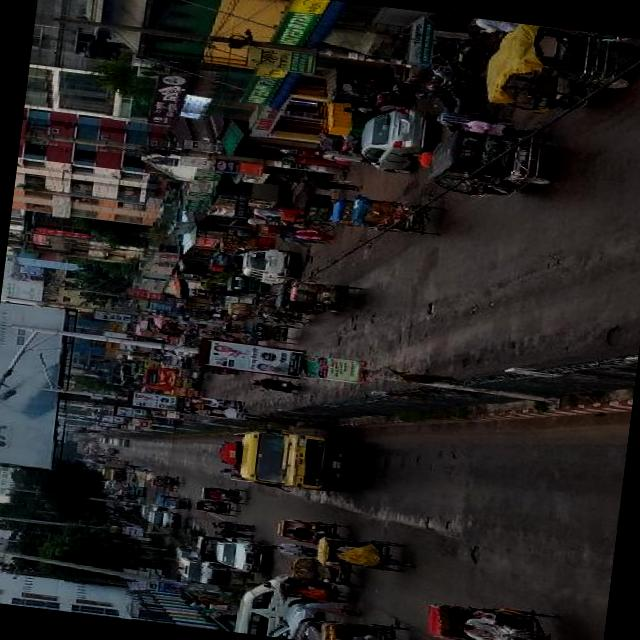bus: (137, 364, 190, 394), (128, 355, 156, 379)
car: (354, 102, 425, 172), (266, 597, 316, 640), (170, 324, 195, 354), (115, 436, 126, 445), (95, 434, 105, 439), (106, 435, 114, 441)
motorcycle: (482, 20, 631, 118), (424, 126, 552, 202), (423, 595, 590, 640), (312, 531, 413, 571), (349, 194, 442, 235), (317, 615, 420, 640), (273, 572, 357, 602), (273, 514, 346, 544), (290, 556, 360, 584), (274, 284, 334, 314), (292, 278, 354, 306), (441, 74, 486, 112), (258, 300, 310, 326), (369, 78, 409, 110), (198, 482, 247, 502), (192, 496, 240, 516), (252, 321, 296, 342), (248, 374, 296, 392), (224, 272, 260, 292), (154, 492, 186, 509), (226, 300, 256, 318), (328, 196, 348, 222), (171, 383, 202, 397), (151, 472, 180, 485), (178, 366, 206, 379), (195, 364, 232, 372), (147, 476, 173, 486), (104, 445, 116, 451)
truck: (215, 422, 362, 492), (233, 575, 299, 638), (193, 532, 270, 572), (236, 242, 296, 284), (175, 554, 222, 582), (144, 506, 174, 526), (96, 462, 122, 478), (172, 542, 196, 558), (138, 502, 160, 515), (125, 482, 144, 494)
